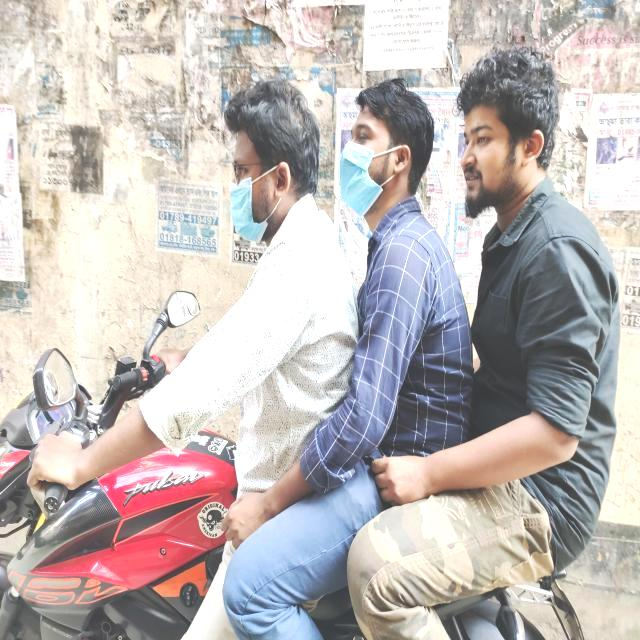motorcycle: (0, 282, 630, 640)
person: (417, 45, 620, 640), (295, 69, 480, 640), (172, 71, 349, 640)
rider_region: (0, 47, 622, 640)
